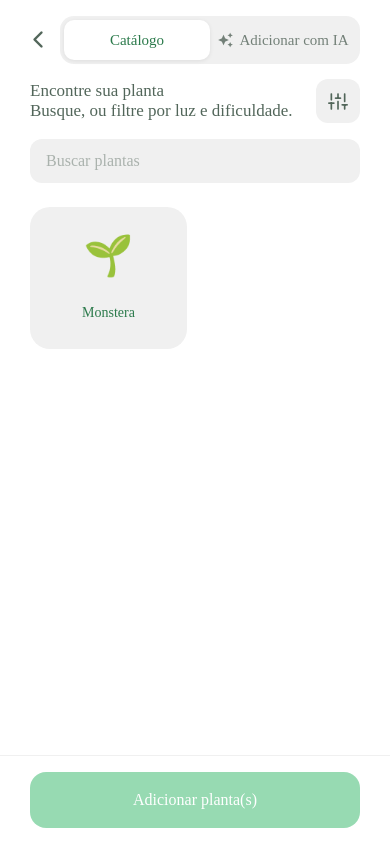
Test: PlantSelect › uses the new language for labels and the next fetch
Check: the text "Monstera" is shown, box top-left (82, 305), bottom-right (135, 320)
Click the button named "Filtros": [338, 101] box top-left (316, 79), bottom-right (360, 123)
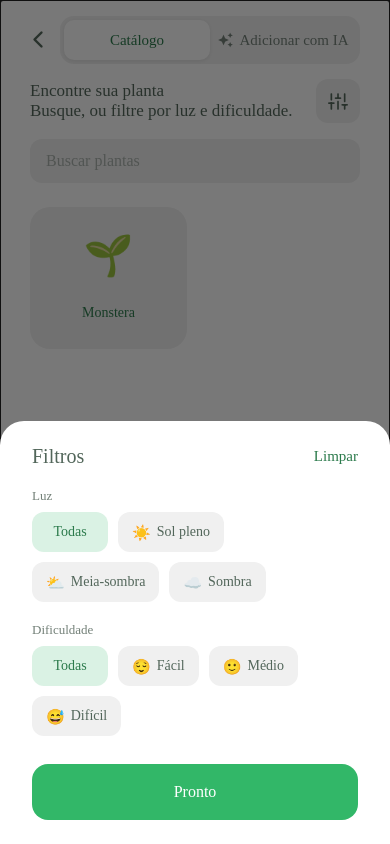
Check: the text "Meia-sombra" is shown, box top-left (71, 574), bottom-right (145, 590)
